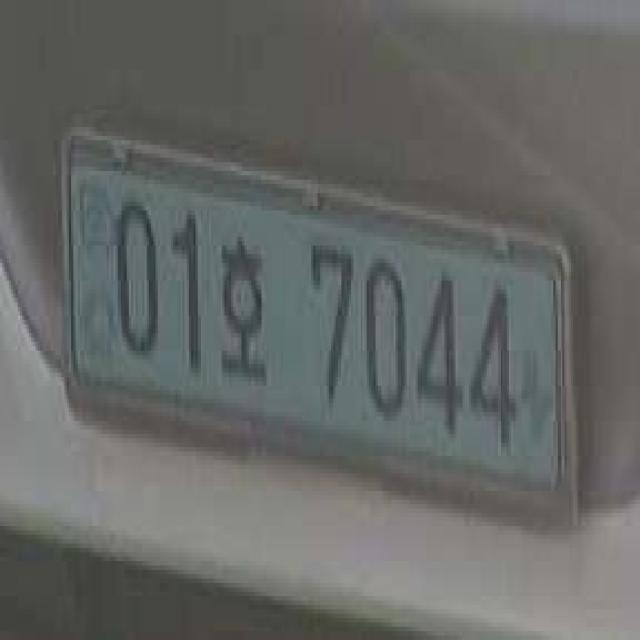EV_plate: (59, 125, 575, 542)
